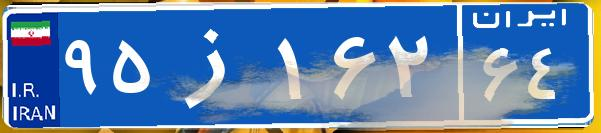1: (273, 28, 330, 110)
2: (385, 28, 445, 110)
4: (525, 38, 570, 115)
5: (110, 28, 158, 105)
6: (330, 28, 385, 110), (475, 38, 525, 113)
9: (57, 26, 110, 107)
ز: (158, 15, 273, 115)
